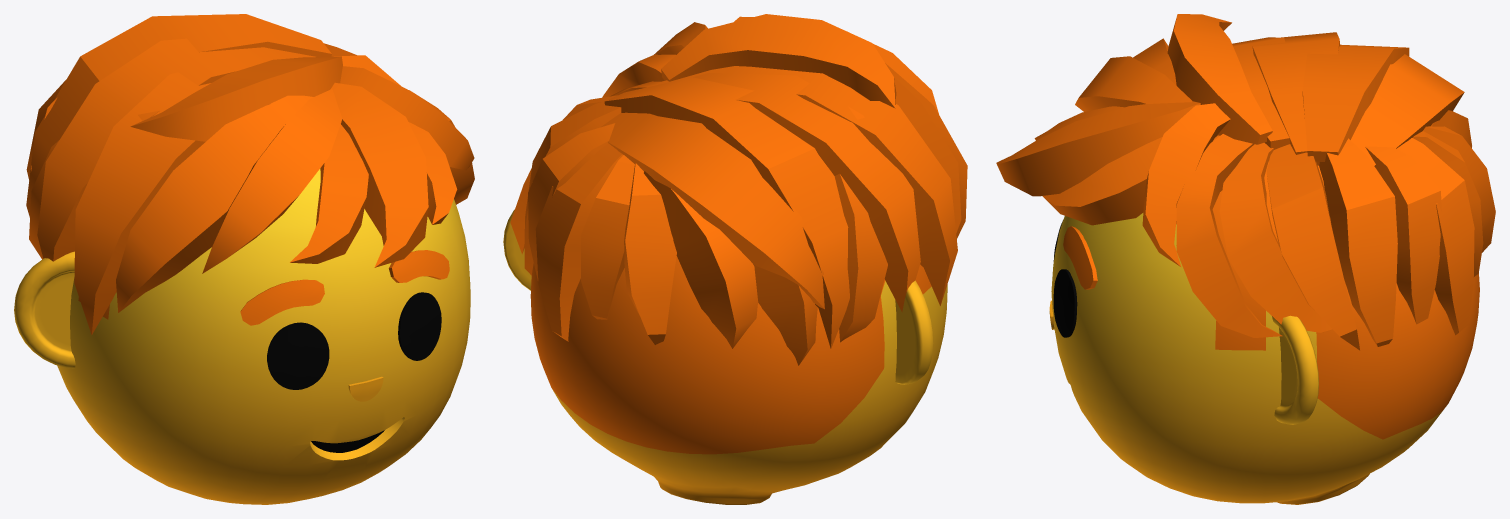
File: person_red_hair.glb
3 views of the same model, side by side, from view 1: azimuth 30°, elevation 25°; view 2: azimuth 150°, elevation 25°; view 3: azimuth 270°, elevation 25° (orthographic). The views are drawn at different scales.
Visible parts, largest first — view 1: Cube.345, Roundcube.018, Circle.336, ears.017, Circle.338, Circle.337; view 2: Cube.345, Roundcube.018, ears.017; view 3: Cube.345, Roundcube.018, ears.017, Circle.336, Circle.338.
Part boxes in pixels (left/top/right/bottom): Cube.345: left=26, top=14, right=474, bottom=334; Roundcube.018: left=57, top=168, right=470, bottom=504; Circle.336: left=267, top=292, right=441, bottom=389; ears.017: left=14, top=251, right=75, bottom=368; Circle.338: left=240, top=250, right=449, bottom=325; Circle.337: left=348, top=376, right=383, bottom=401; Cube.345: left=510, top=14, right=967, bottom=365; Roundcube.018: left=530, top=256, right=947, bottom=504; ears.017: left=503, top=209, right=933, bottom=384; Cube.345: left=996, top=14, right=1495, bottom=350; Roundcube.018: left=1051, top=135, right=1479, bottom=504; ears.017: left=1272, top=315, right=1318, bottom=424; Circle.336: left=1053, top=221, right=1077, bottom=337; Circle.338: left=1063, top=226, right=1097, bottom=289.
Size of the model in its own units: 1.76 by 1.73 by 1.77.
Materials: 2 (2 with a texture image).
